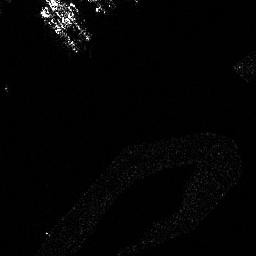ship: (40, 7, 76, 52)
